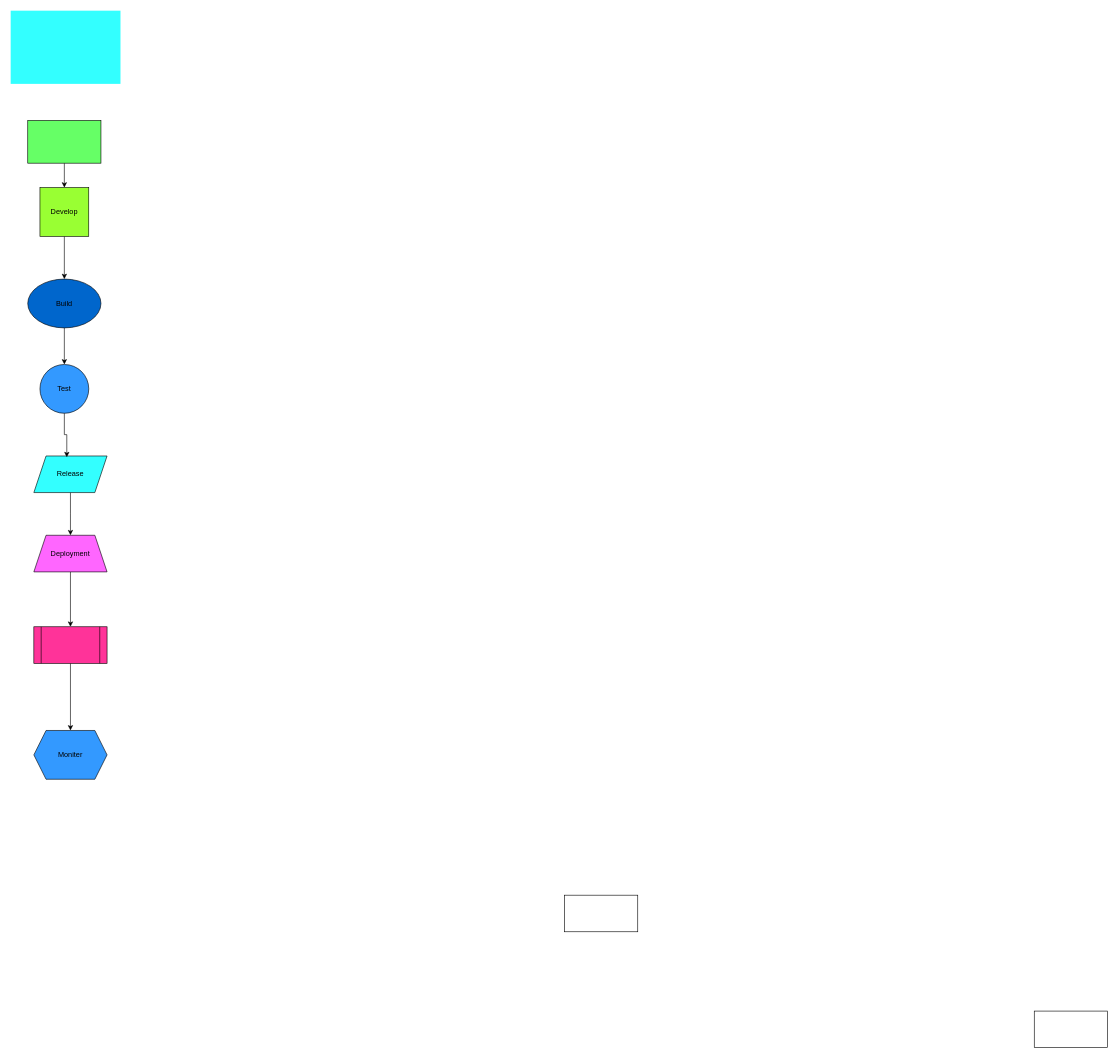
Some shapes in this 1118 by 1058 pixel diagram are drawn without their labels. Each missing label, with the centre of its shape:
DevOps life cycle: [65,47]
Operate: [70,644]
plan: [64,141]
